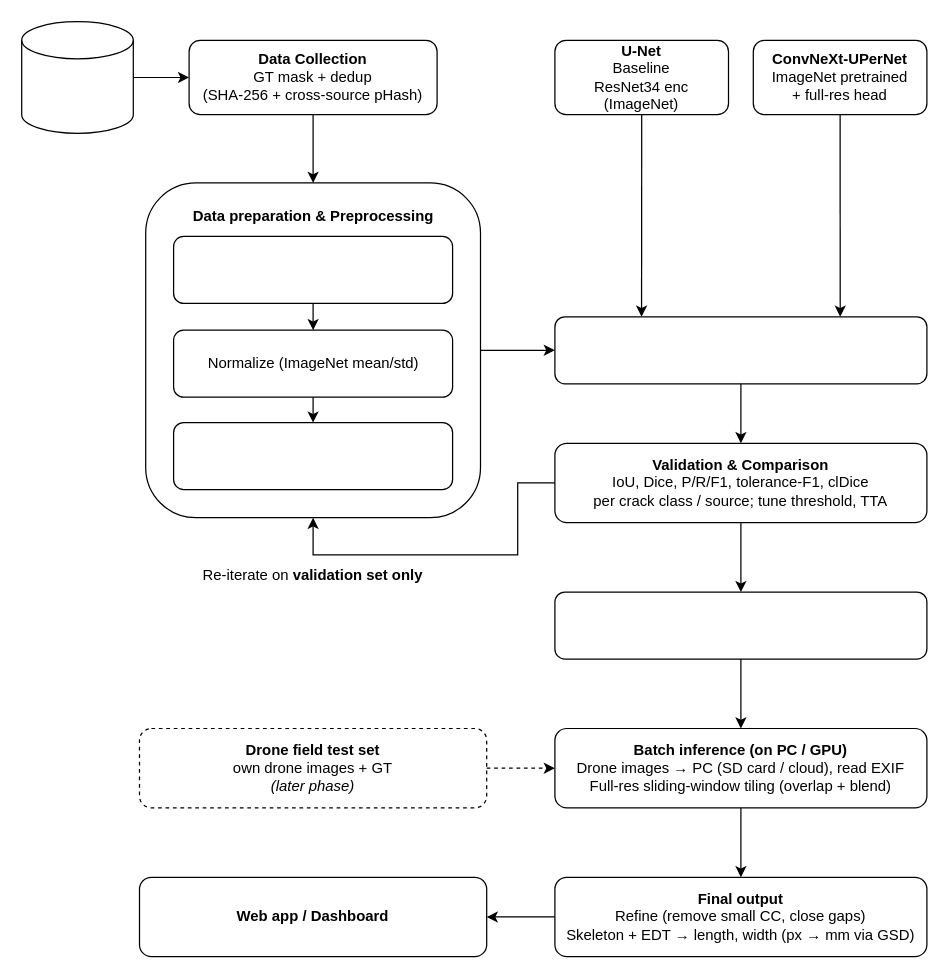
This 949x978 diagram has some shape labels left out. Here are the shapes that lost their labels. From the top down, the box of each, then its label:
(20, 20, 133, 133): Datasets Public + UAV
(172, 235, 453, 303): Pairing, Binary mask, Group-aware split (by parent photo)
(554, 316, 927, 384): Model training BCE + batch-Dice, AdamW, AMP
(172, 421, 453, 490): Augment (flip, rotate, color, blur, scale)
(554, 591, 927, 659): Final Test (held-out, run once) Public merged test set, frozen model + threshold
